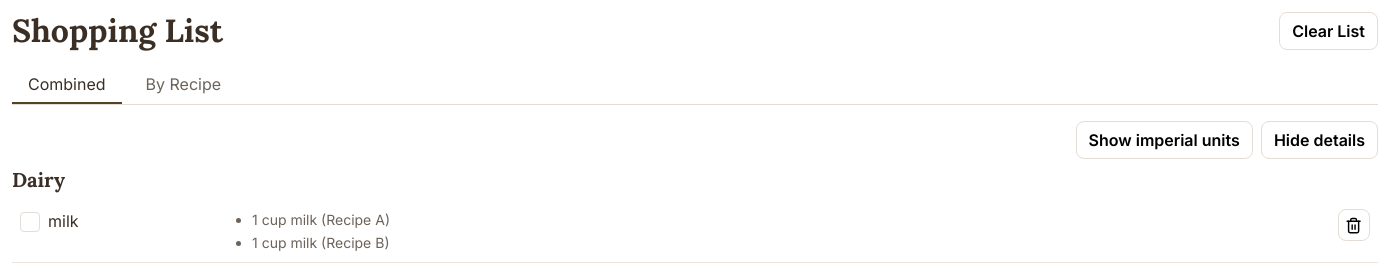
ShoppingListView › should switch to the By Recipe tab and show per-recipe sections
The width and height of the screenshot is (1390, 280).
Click the tab "By Recipe" at [183, 85], box [130,66,237,104]
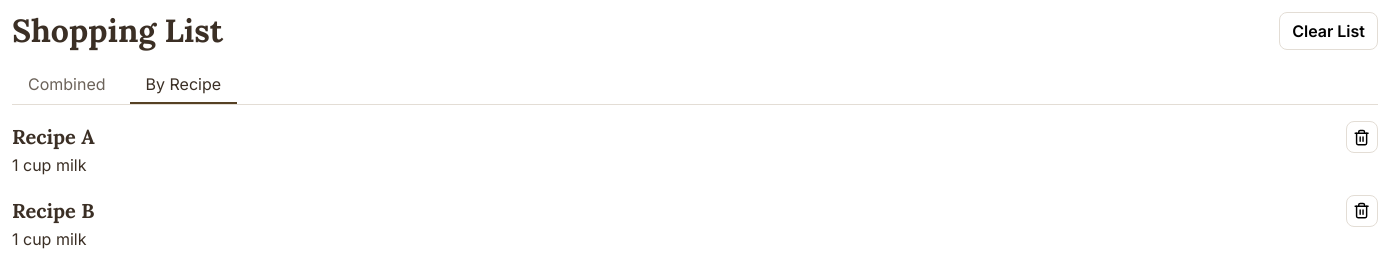
Expected: the heading "Recipe A" is shown, [12,124,94,150]
Result: no checkboxes are shown
